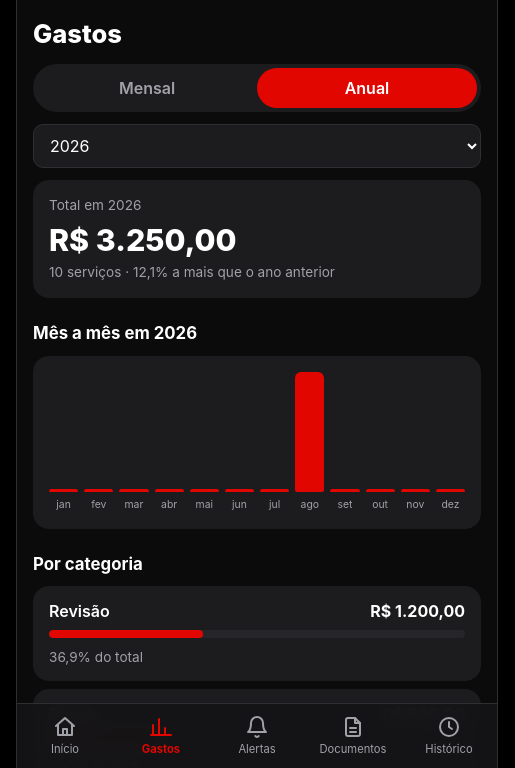
Test: T04 · Painel de gastos › troca o ano e busca os dados do ano escolhido
Select "2025" in the dropdown named "Ano" at coordinates (257, 146), box [33,124,481,168]
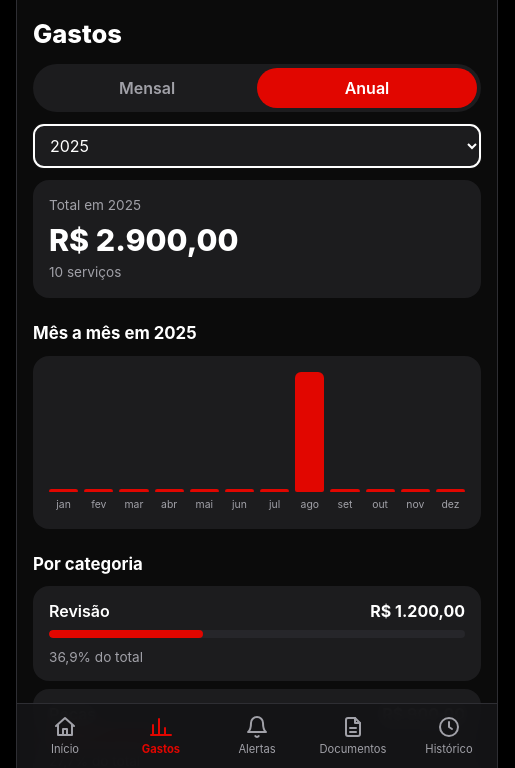
Check: the text "R$ 2.900,00" is shown, box [49,222,238,258]
